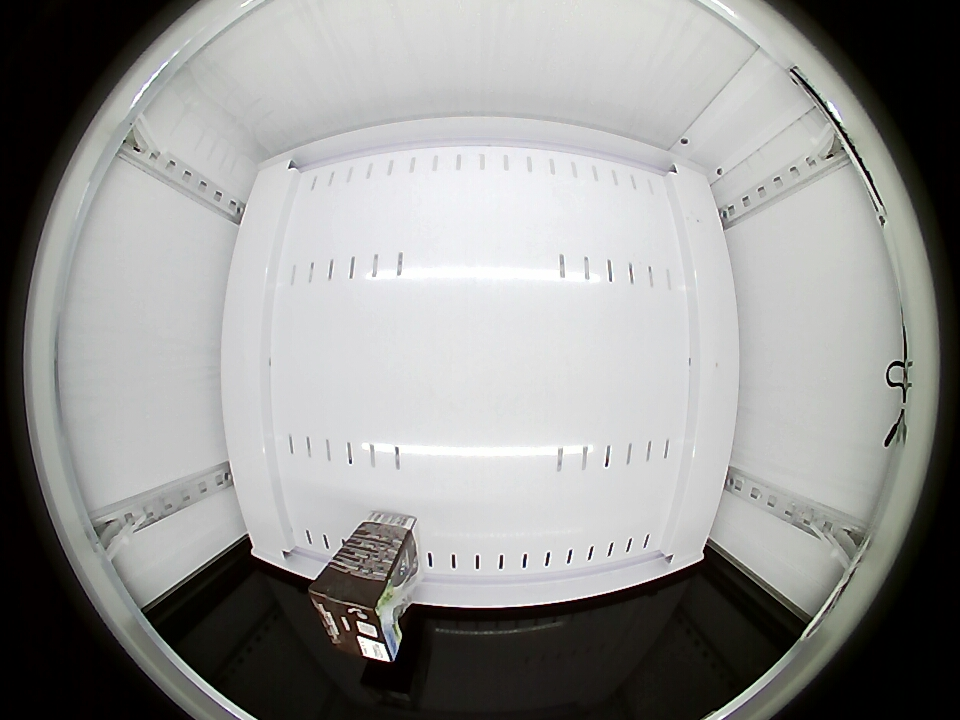weitanai2: (309, 562, 403, 661)
